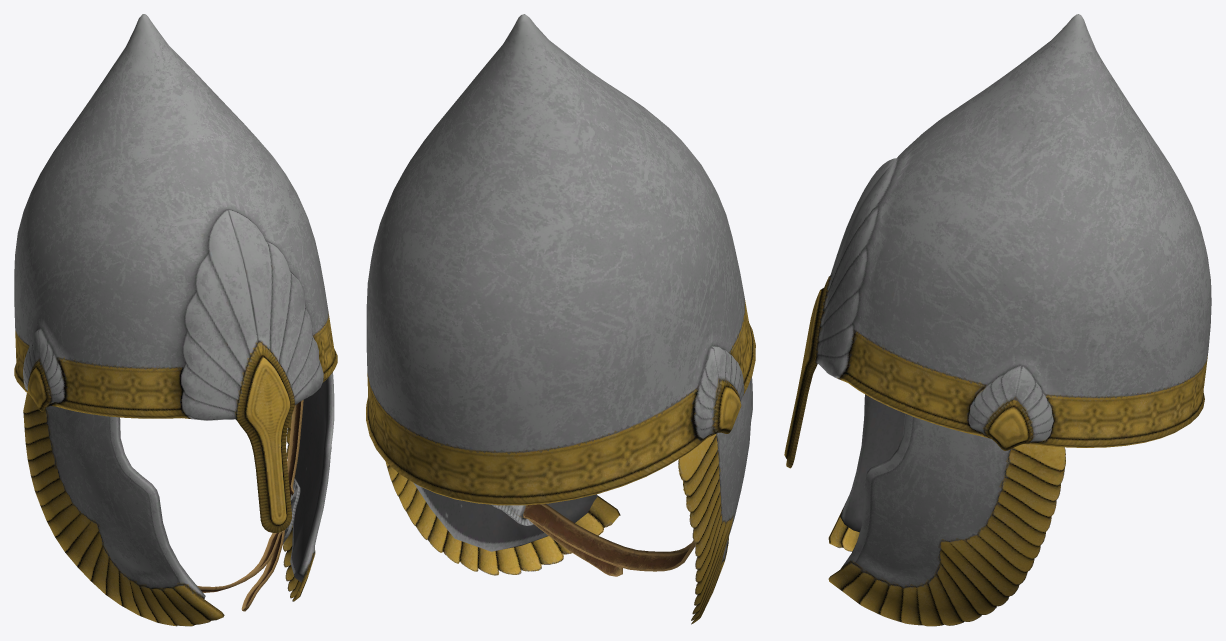
The model's file is pelargirmarine_helmet_1_a.fbx.
3 renders of one model, left to right at view 1: azimuth 30°, elevation 25°; view 2: azimuth 150°, elevation 25°; view 3: azimuth 270°, elevation 25°, orthographic. The views are drawn at different scales.
Visible parts, largest first — view 1: pelargirmarine_helmet_1_a; view 2: pelargirmarine_helmet_1_a; view 3: pelargirmarine_helmet_1_a.
Part boxes in pixels (x1,y1,x2,y2): pelargirmarine_helmet_1_a: (14,14,337,626); pelargirmarine_helmet_1_a: (366,14,755,624); pelargirmarine_helmet_1_a: (784,14,1211,626).
Size of the model in its own units: 0.2237 by 0.2744 by 0.4088.
Materials: 1 (1 with a texture image).
